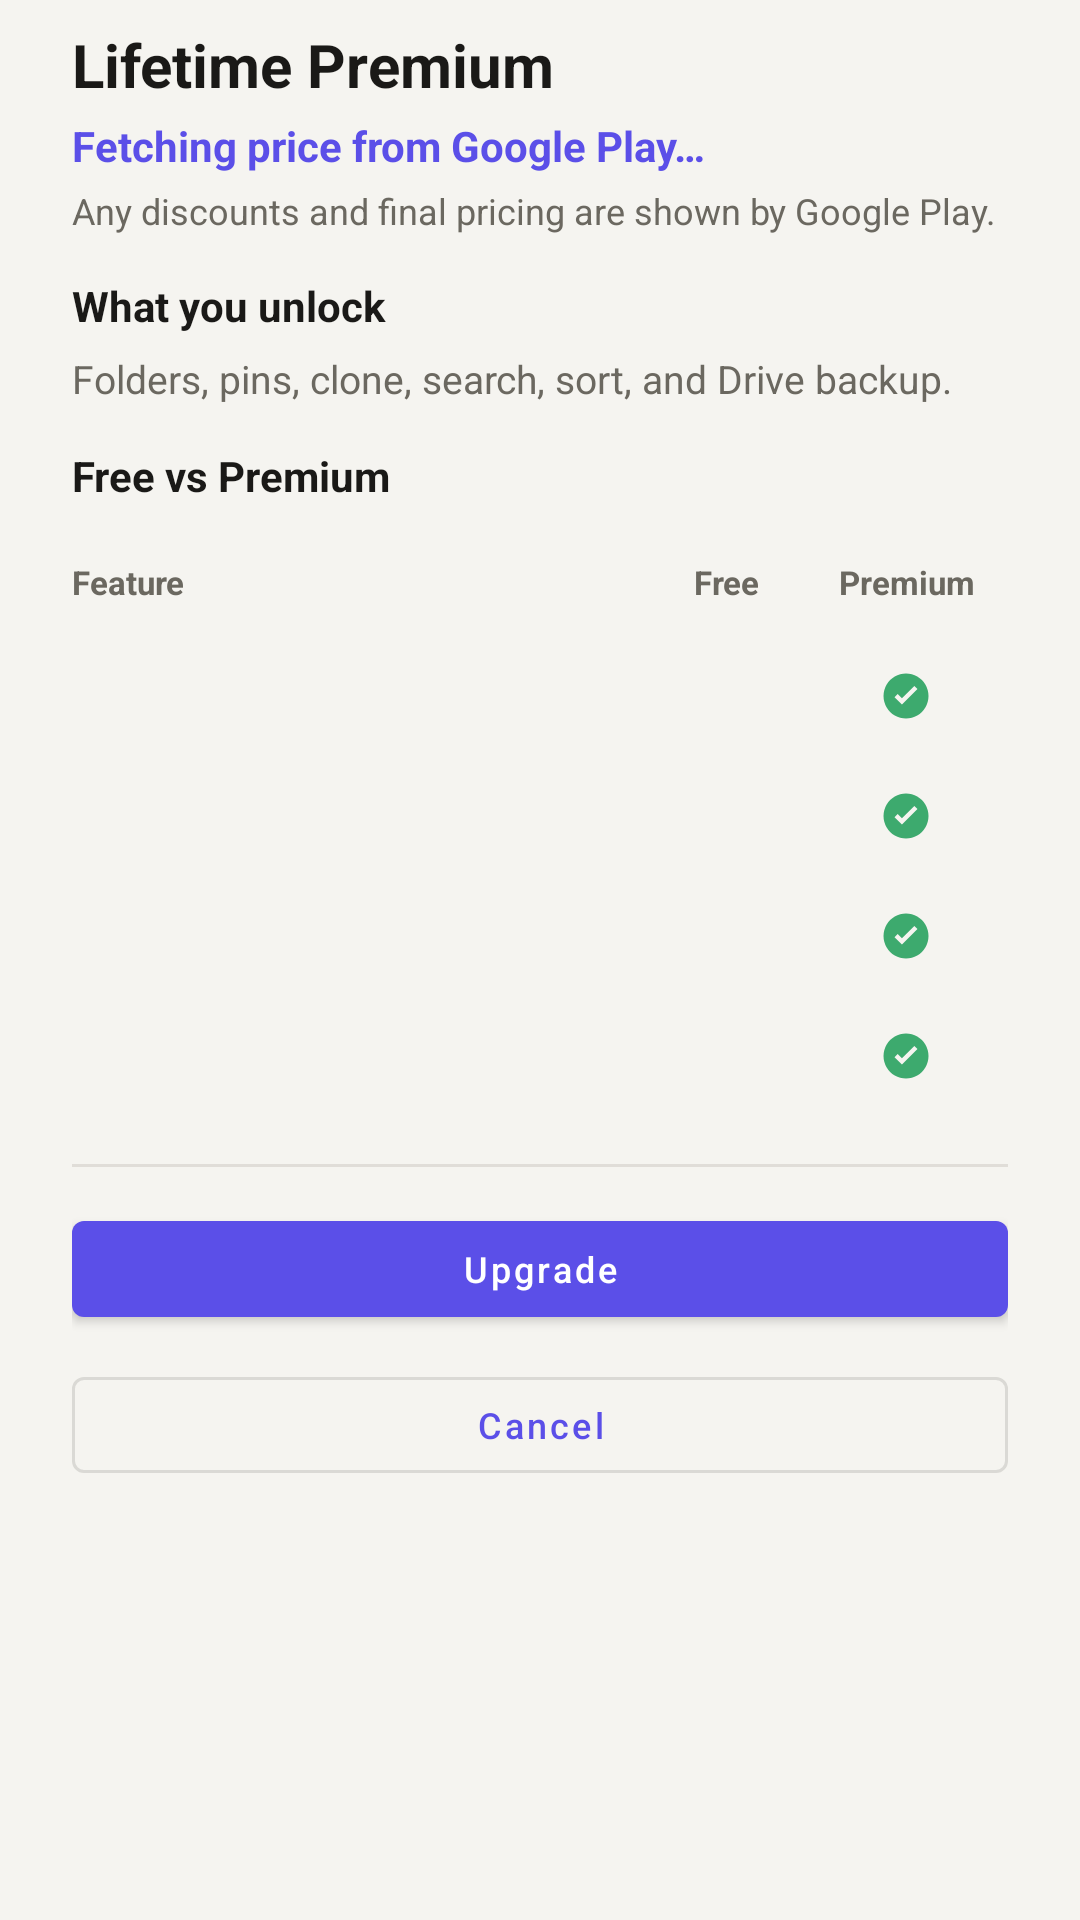

Point at icon controls on the screen. Image size 1080*1920, points as (x,y).
check circle: (906,696), (906,816), (906,936), (906,1056)
